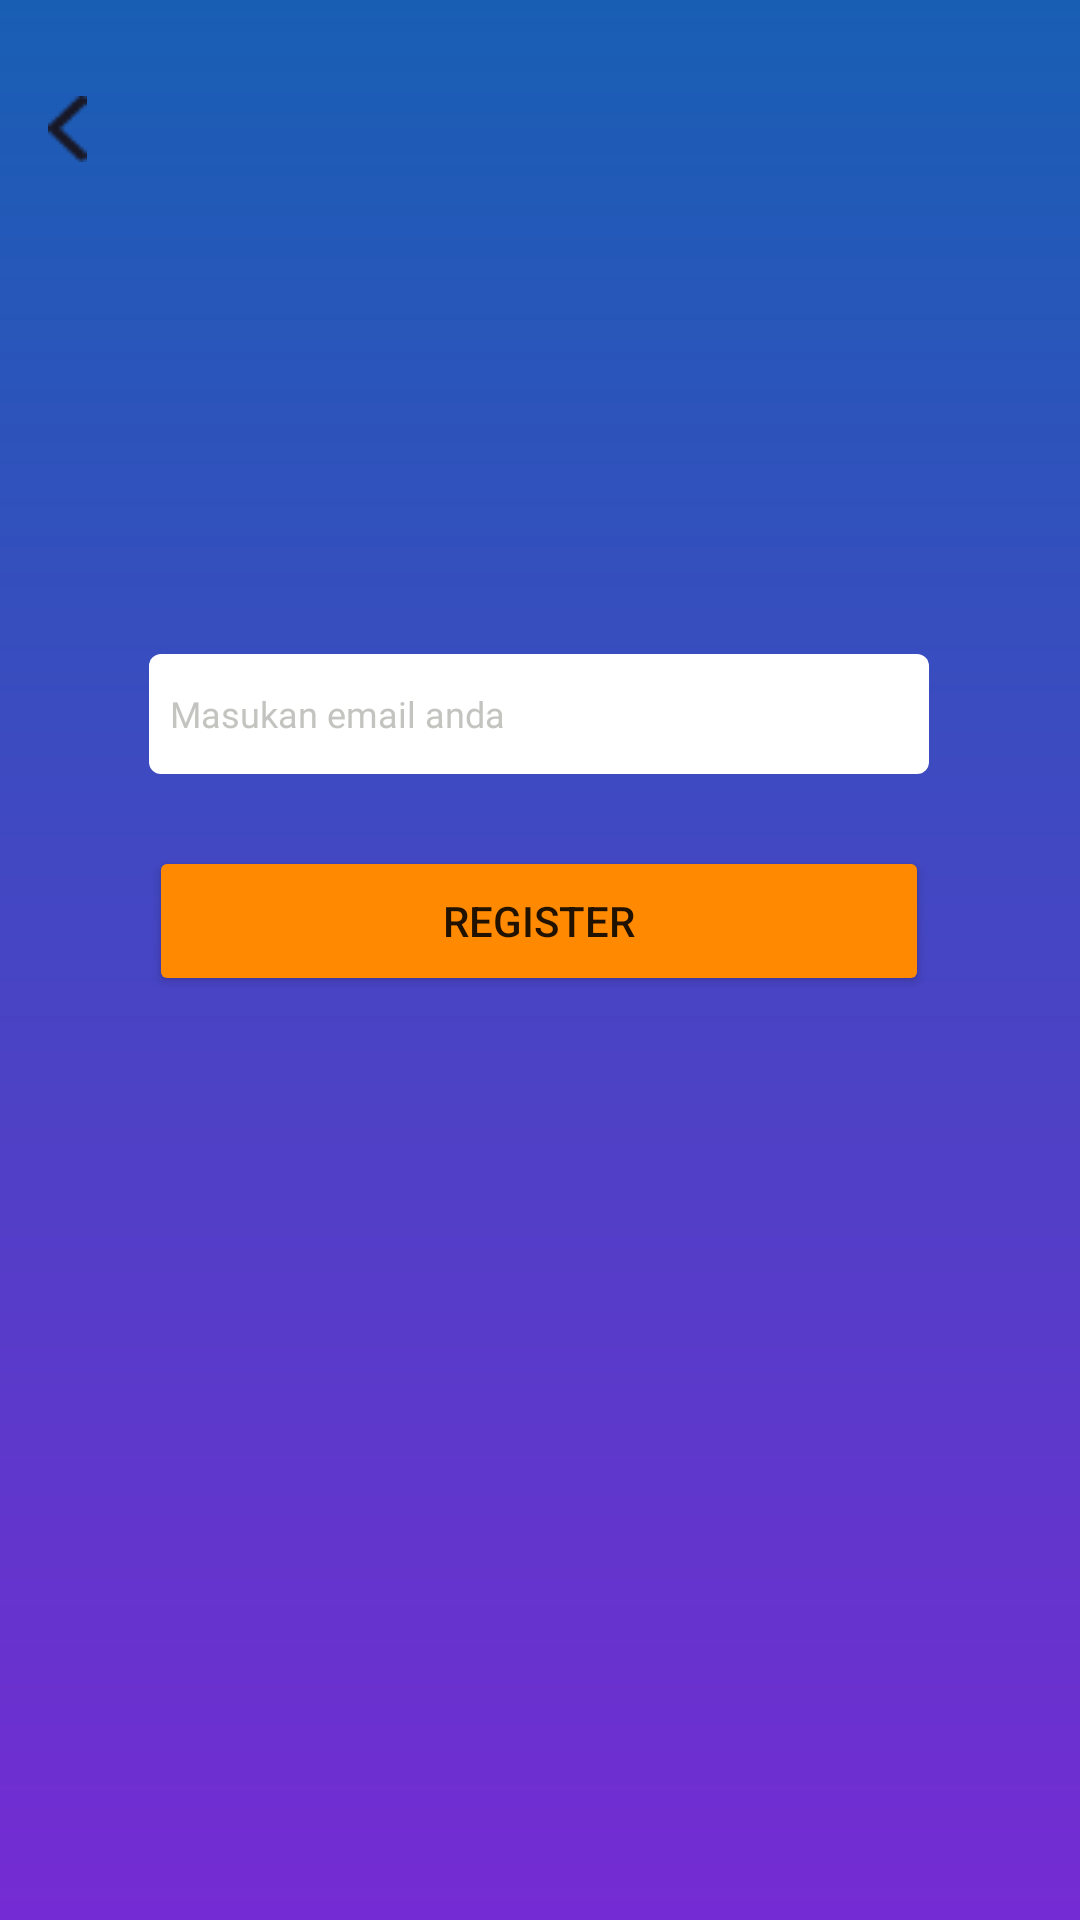

Icon click points for this 1080 x 1920 phone screenshot, format [x,y]:
back: [67,129]
